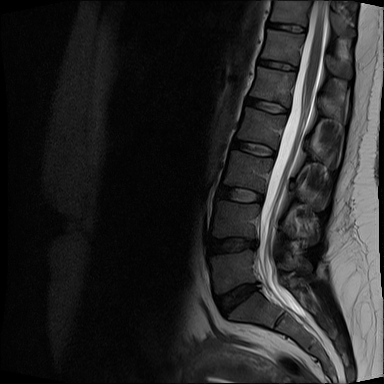Lumbar Disc Bulge (LDB): (211, 275, 265, 321), (204, 234, 265, 259)
Normal IVD: (225, 134, 280, 162), (212, 180, 269, 207), (240, 93, 293, 119), (251, 56, 302, 74), (263, 19, 309, 35)
Spinal Stenosis (SS): (246, 276, 267, 296), (249, 235, 265, 253)
